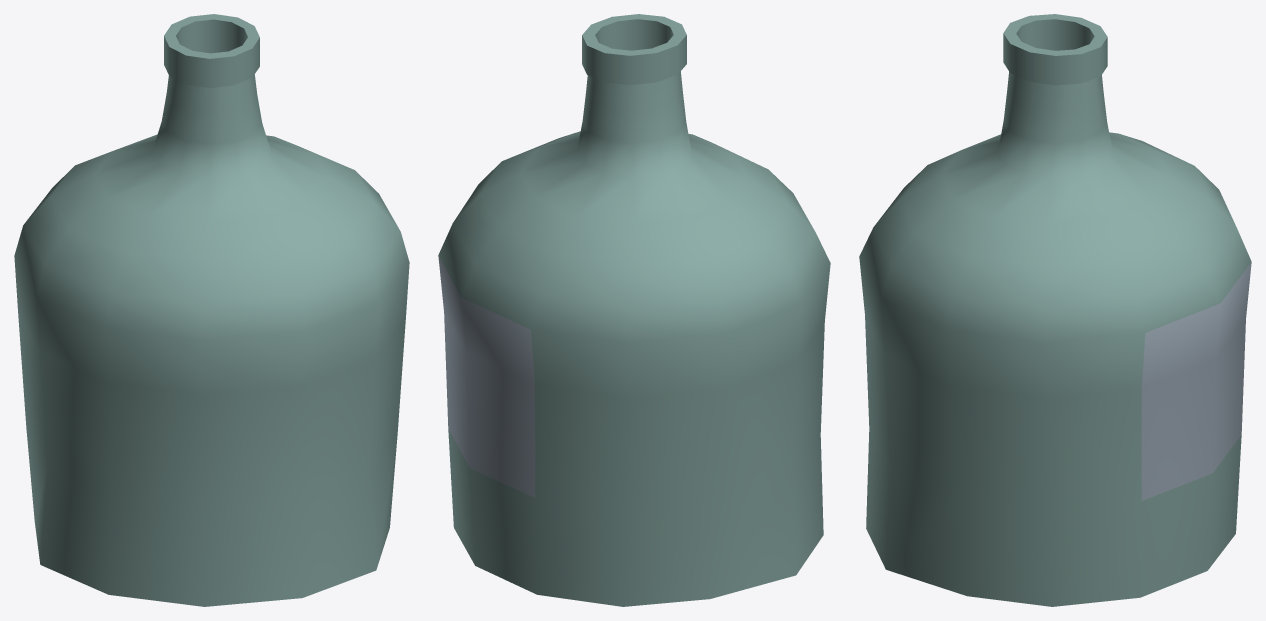
Rendered from garrafa_menor.fbx.
3 renders of one model, left to right at view 1: azimuth 30°, elevation 25°; view 2: azimuth 150°, elevation 25°; view 3: azimuth 270°, elevation 25°, orthographic.
Parts seen in each view (by area): view 1: garrafa_menor; view 2: garrafa_menor; view 3: garrafa_menor.
Part boxes in pixels (x1,y1,x2,y2): garrafa_menor: (14,14,409,606); garrafa_menor: (438,14,830,606); garrafa_menor: (859,14,1251,606).
Size of the model in its own units: 11.31 by 15.61 by 11.21.
